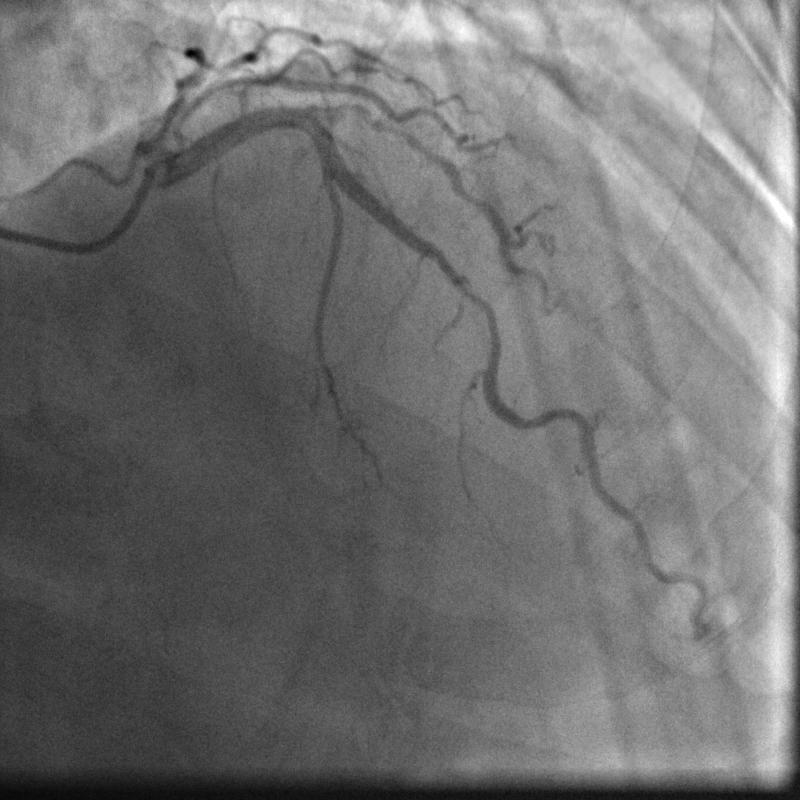Stenosis: (436, 248, 504, 350)
